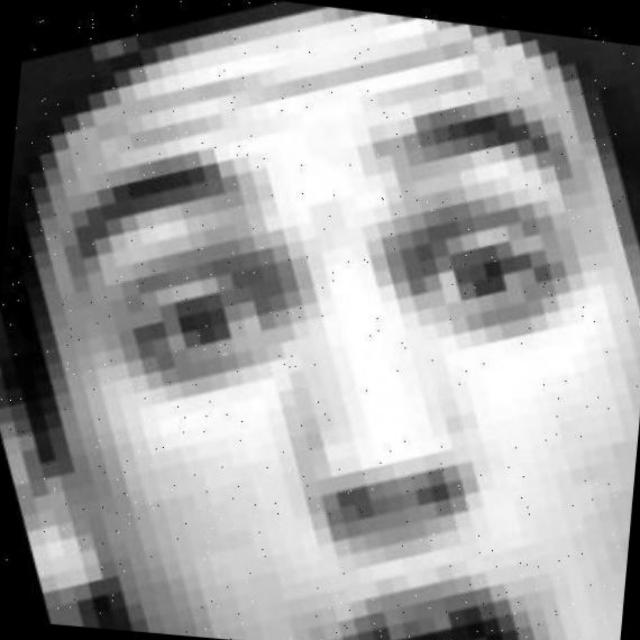Surprised: (37, 104, 639, 640)
